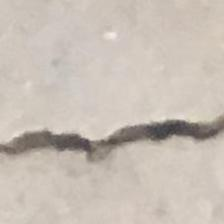Crack: (0, 92, 224, 194)
